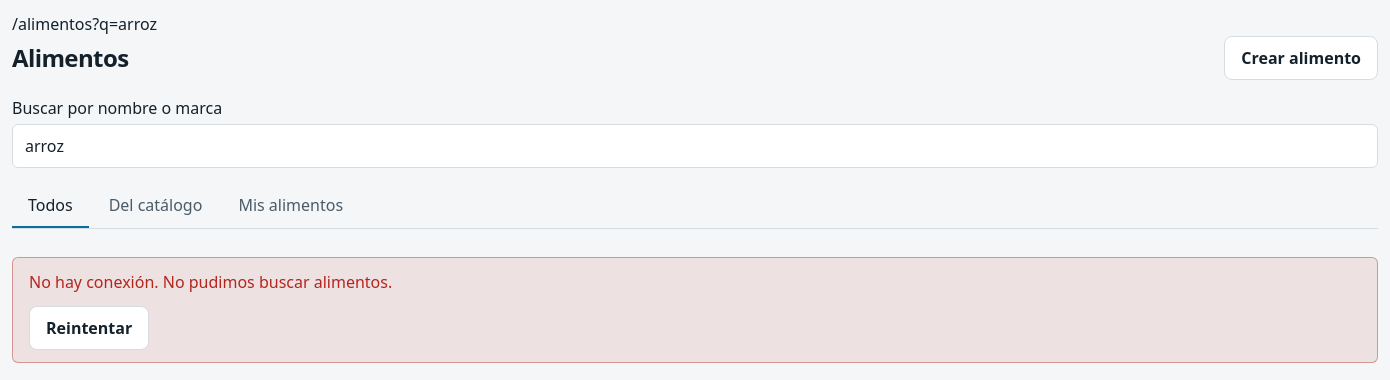
FoodSearchPage: estados (FR-009, FR-010) › un fallo de red muestra el aviso sin conexión y permite reintentar
Expected: the message shows "No hay conexión. No pudimos buscar alimentos.", [29,271,392,293]
What coordinates should you click on to do the following:
click the button "Reintentar"
I would click on:
 (89, 328)
Its box is [29,306,149,350].
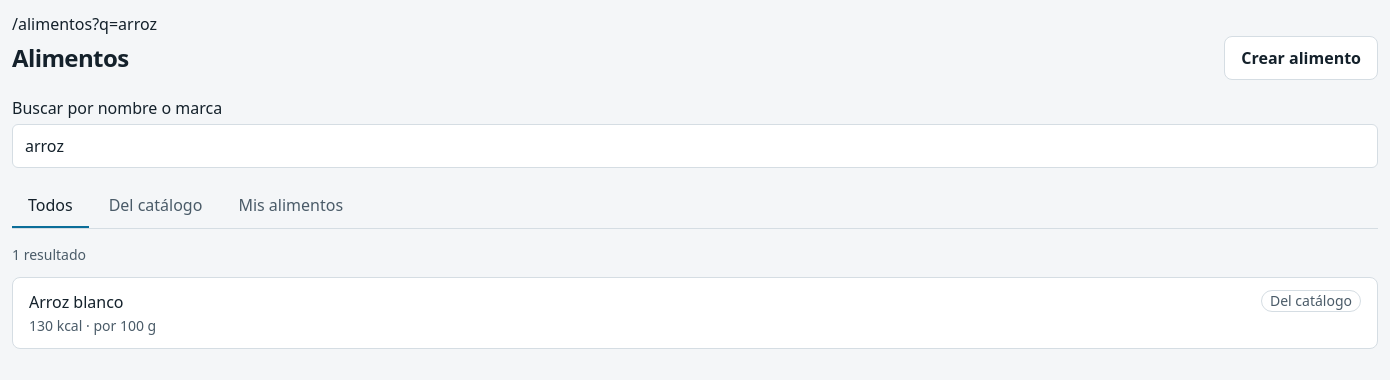
Now the text "Arroz blanco" is shown, box [29,290,124,314]
